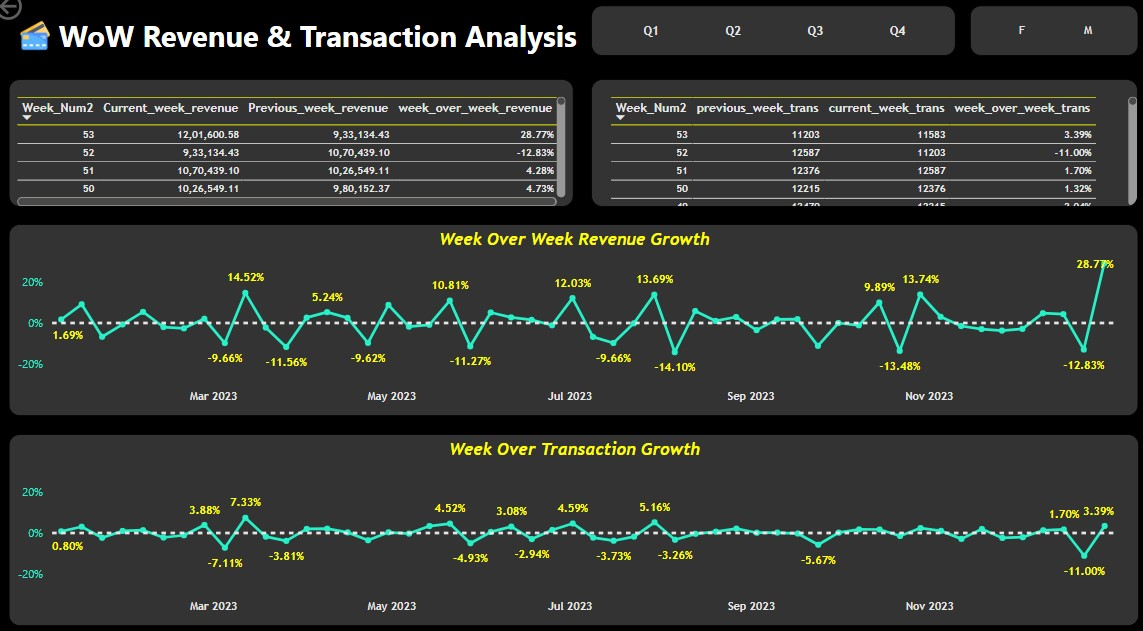

The dashboard page shown, as its layout file describes it:
{"tool":"powerbi","page":{"name":"WoW analysis","canvas":[1280,720],"ordinal":2},"visuals":[{"type":"tableEx","fields":{"Values":["credit_card.Week_Num2","credit_card.Current_week_revenue","credit_card.Previous_week_revenue","credit_card.week_over_week_revenue"]},"box":[20.6,100,620,140],"z":0},{"type":"actionButton","box":[0,0,100,40],"z":1000},{"type":"lineChart","title":"Week Over Week Revenue Growth","fields":{"Y":["credit_card.week_over_week_revenue"],"Category":["credit_card.Week_Start_Date.Variation.Date Hierarchy.Year","credit_card.Week_Start_Date.Variation.Date Hierarchy.Quarter","credit_card.Week_Start_Date.Variation.Date Hierarchy.Month","credit_card.Week_Start_Date.Variation.Date Hierarchy.Day"]},"box":[20.6,260,1240,210],"z":2000},{"type":"tableEx","fields":{"Values":["credit_card.Week_Num2","credit_card.previous_week_trans","credit_card.current_week_trans","credit_card.week_over_week_trans"]},"box":[660,100,600,140],"z":3000},{"type":"textbox","box":[75.9,30.4,619.4,55.2],"z":4000},{"type":"slicer","fields":{"Values":["customer.Gender"]},"box":[1076.1,19.3,184.9,55.2],"z":5000},{"type":"slicer","fields":{"Values":["credit_card.Qtr"]},"box":[659.5,19.3,400.1,55.2],"z":6000},{"type":"image","box":[10,30.4,66.2,55.2],"z":7000},{"type":"image","box":[12.4,30.4,74.5,44.1],"z":8000},{"type":"lineChart","title":"Week Over Transaction Growth","fields":{"Category":["credit_card.Week_Start_Date.Variation.Date Hierarchy.Year","credit_card.Week_Start_Date.Variation.Date Hierarchy.Quarter","credit_card.Week_Start_Date.Variation.Date Hierarchy.Month","credit_card.Week_Start_Date.Variation.Date Hierarchy.Day"],"Y":["credit_card.week_over_week_trans"]},"box":[20.6,490,1240.5,210],"z":9000}]}

Visuals, with their boxes in screenshot pixels (x1, y1, x2, y2), scaled from the page's 1280x720 canvas onto the 1143x631 screenshot:
tableEx - credit_card.Week_Num2 x credit_card.Current_week_revenue: bbox(18, 88, 572, 210)
actionButton: bbox(0, 0, 89, 35)
"Week Over Week Revenue Growth" lineChart: bbox(18, 228, 1126, 412)
tableEx - credit_card.Week_Num2 x credit_card.previous_week_trans: bbox(589, 88, 1125, 210)
textbox: bbox(68, 27, 621, 75)
slicer - customer.Gender: bbox(961, 17, 1126, 65)
slicer - credit_card.Qtr: bbox(589, 17, 946, 65)
image: bbox(9, 27, 68, 75)
image: bbox(11, 27, 78, 65)
"Week Over Transaction Growth" lineChart: bbox(18, 429, 1126, 613)
